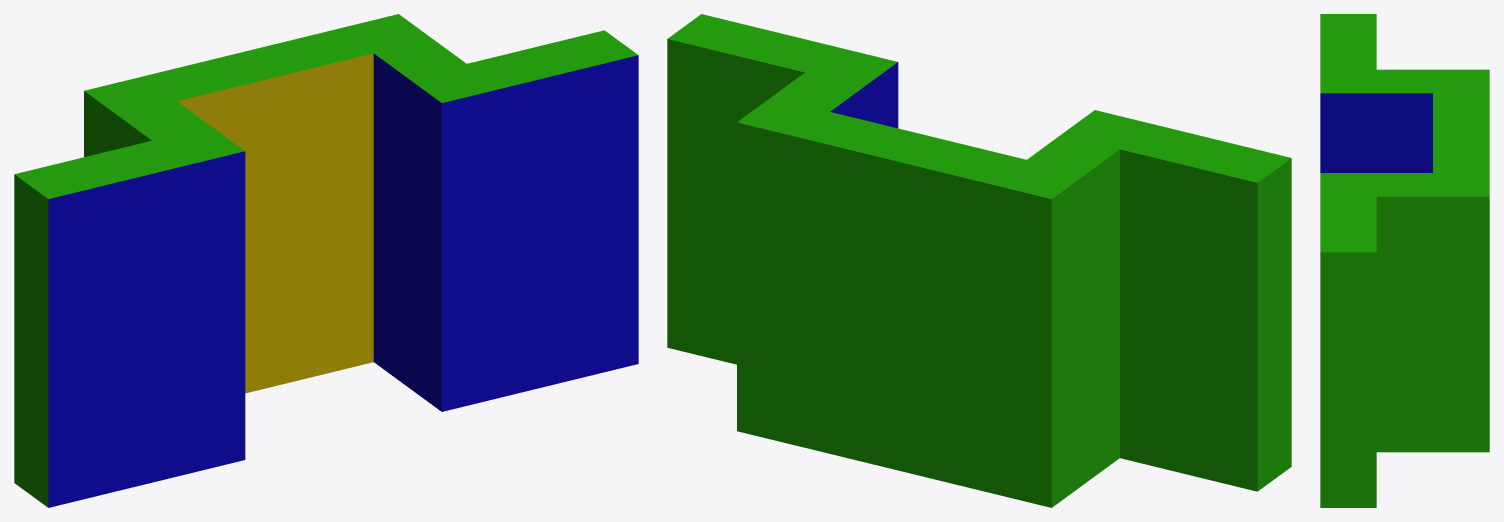
File: octagon_wall_alcoves_2_correct-dims_join_reset-scale_join_half-depth.fbx
The picture shows the model from 3 angles, left to right: view 1: azimuth 30°, elevation 25°; view 2: azimuth 150°, elevation 25°; view 3: azimuth 270°, elevation 25°; orthographic projection. The views are drawn at different scales.
Parts seen in each view (by area): view 1: Cube.002; view 2: Cube.002; view 3: Cube.002.
Boxes of the visible parts, x1,y1,x2,y2 form: Cube.002: [14, 14, 638, 507]; Cube.002: [667, 14, 1291, 507]; Cube.002: [1320, 14, 1489, 507].
Bounding box in the file's own units: 10 × 5 × 3.
